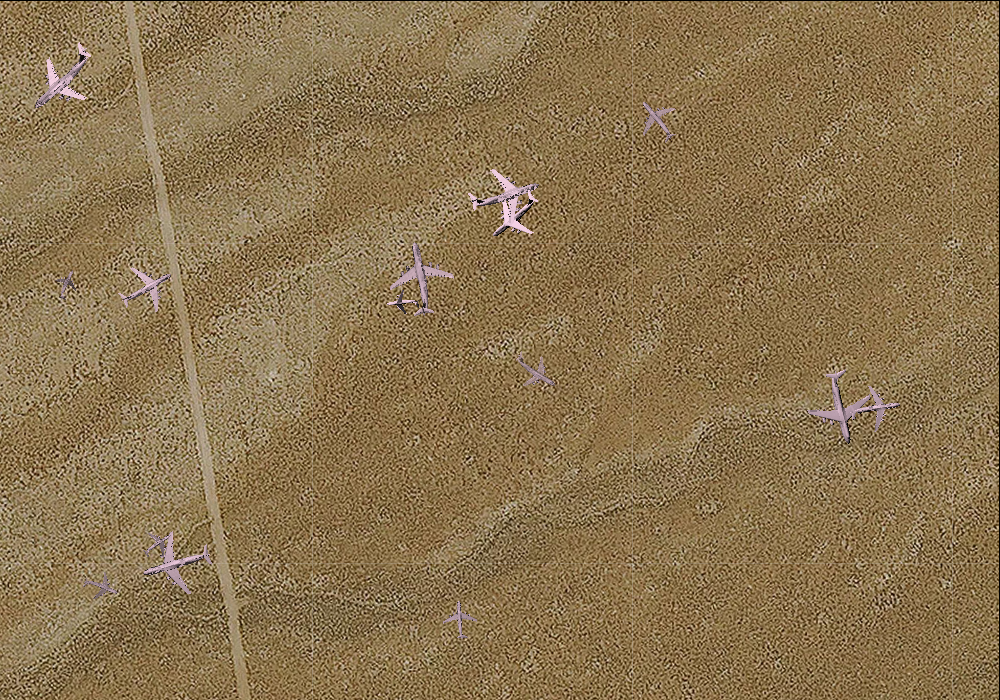plane: (9, 25, 113, 129), (459, 150, 549, 237), (798, 362, 885, 451), (377, 235, 461, 322), (133, 523, 219, 604), (474, 176, 553, 254), (107, 250, 183, 325), (624, 87, 689, 152), (504, 339, 567, 401), (846, 381, 903, 435), (77, 565, 123, 610), (135, 523, 179, 566), (47, 264, 86, 304), (441, 599, 479, 640), (384, 286, 421, 320)
